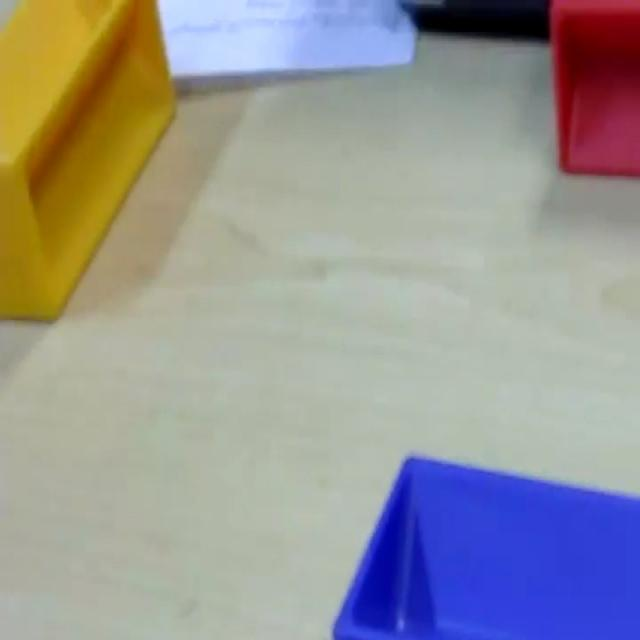blue_block: (331, 450, 638, 638)
red_block: (548, 0, 638, 177)
yellow_block: (1, 0, 176, 323)
